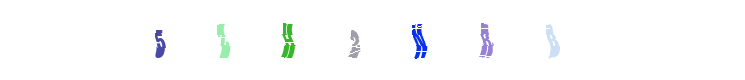2: (332, 0, 412, 80)
5: (137, 0, 217, 80)
B: (441, 0, 521, 80)
H: (248, 0, 328, 80)
N: (374, 0, 454, 80)
R: (379, 0, 459, 80)
Z: (194, 0, 274, 80)
